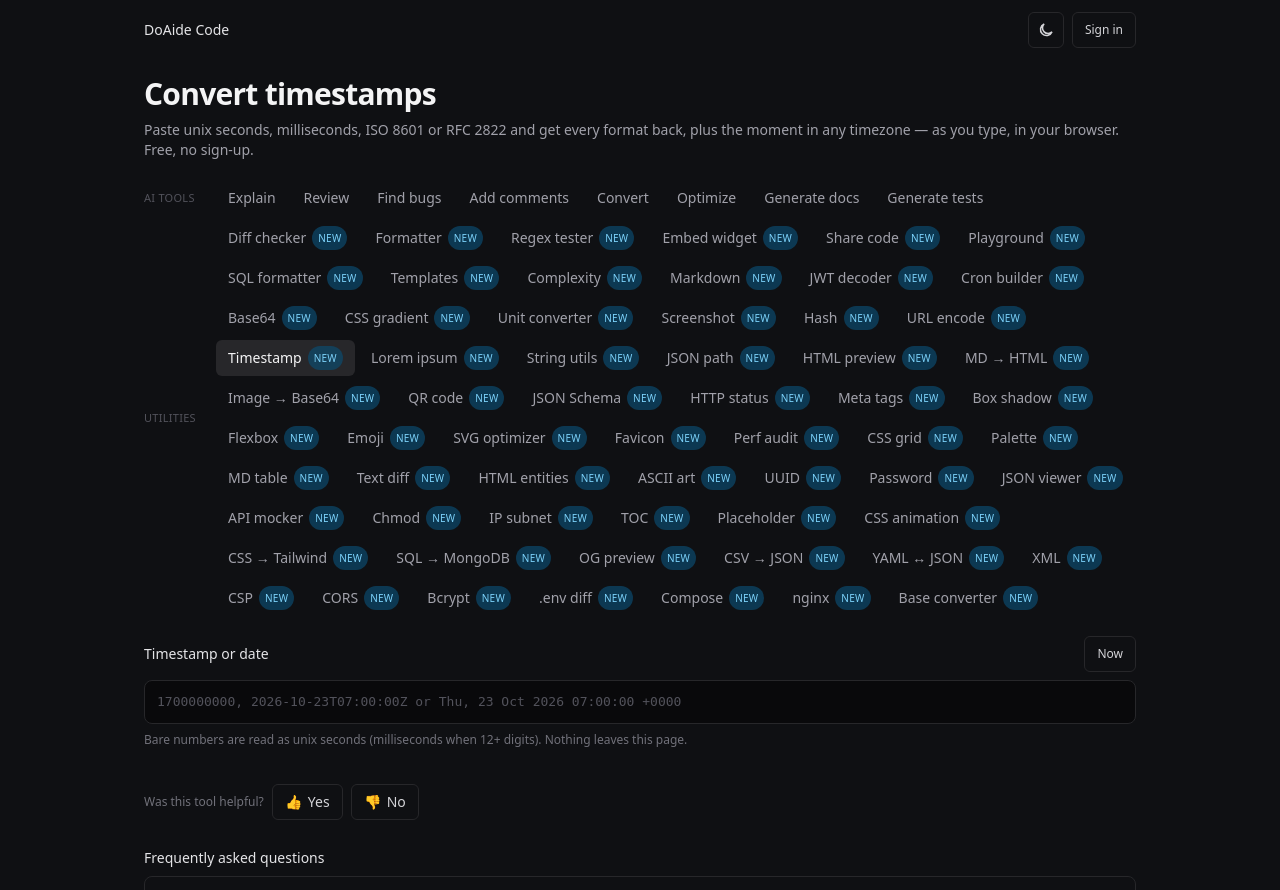
TimestampPage › explains unreadable input
Replace the text in the field with test id "ts-input" with "not a date" at (640, 702), box [144,680,1136,724]
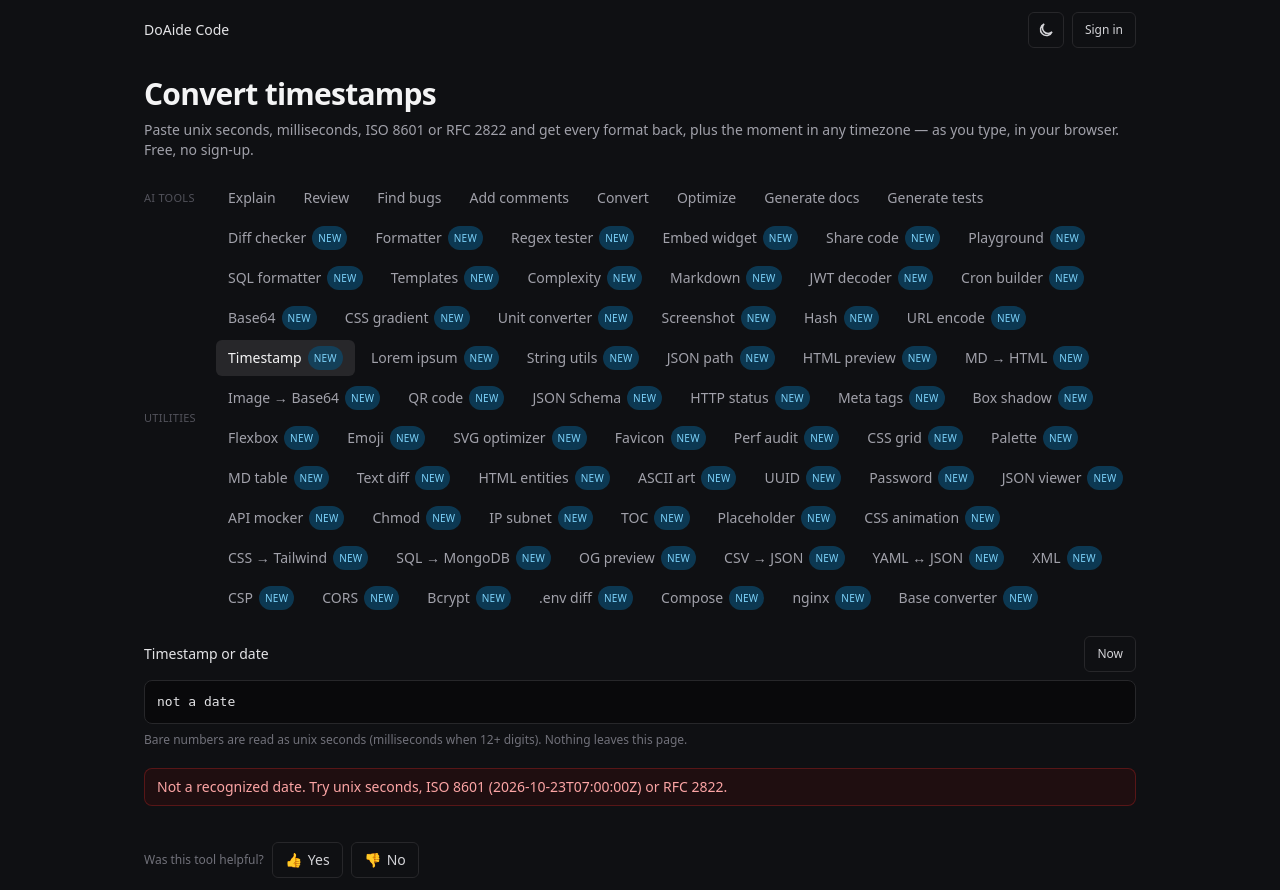
Expected: the message with test id "ts-error" shows "ISO 8601", [157,777,727,796]
